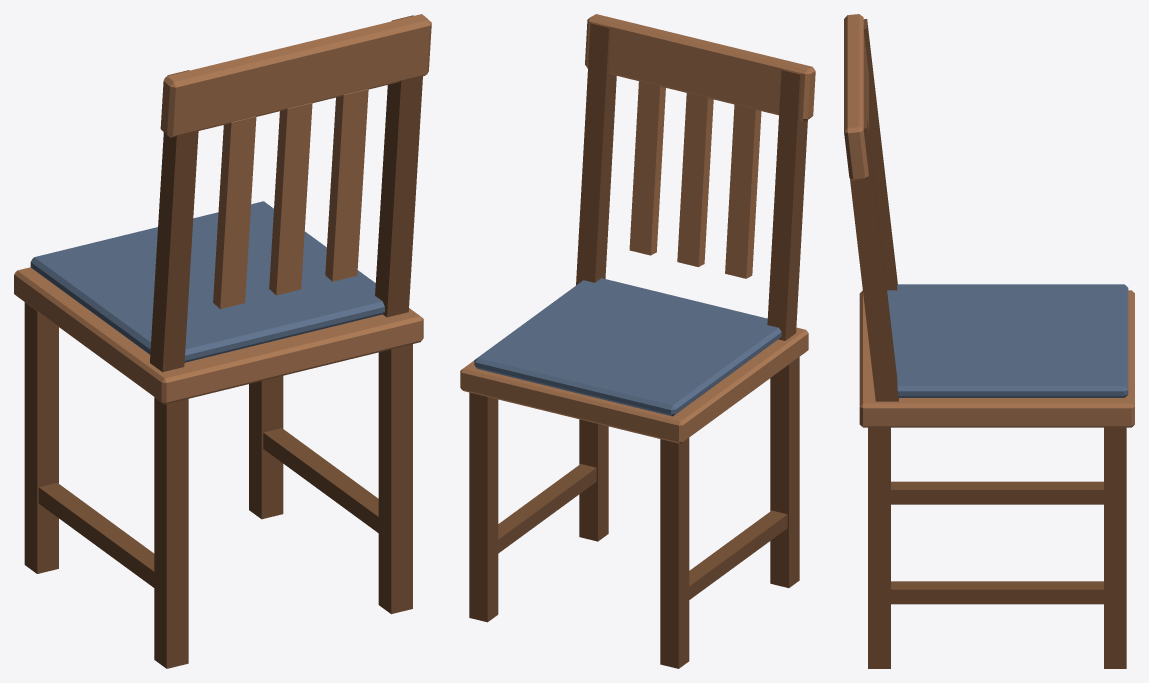
File: dining_chair.glb
The picture shows the model from 3 angles, left to right: view 1: azimuth 30°, elevation 25°; view 2: azimuth 150°, elevation 25°; view 3: azimuth 270°, elevation 25°; orthographic projection. The views are drawn at different scales.
Visible parts, largest first — view 1: DiningChair; view 2: DiningChair; view 3: DiningChair.
Part boxes in pixels (<box>): DiningChair: <box>14,14,431,668</box>; DiningChair: <box>460,14,815,668</box>; DiningChair: <box>844,14,1134,668</box>.
Size of the model in its own units: 0.42 by 0.9157 by 0.444.
